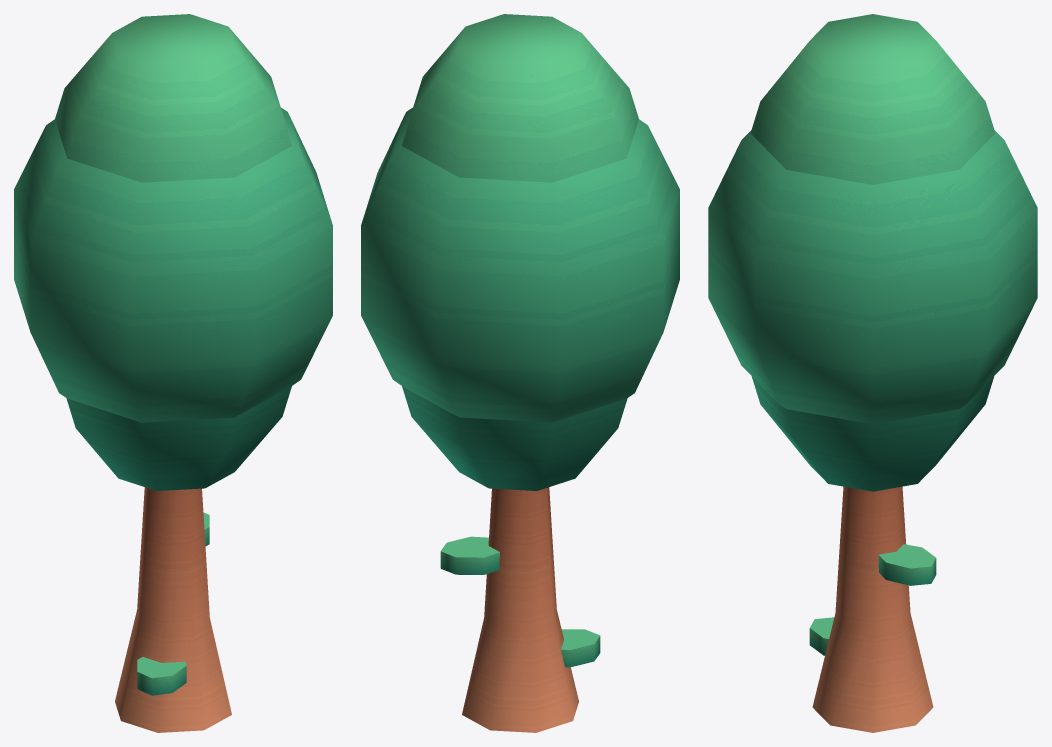
File: tree-large.glb
3 renders of one model, left to right at view 1: azimuth 30°, elevation 25°; view 2: azimuth 150°, elevation 25°; view 3: azimuth 270°, elevation 25°, orthographic.
Parts seen in each view (by area): view 1: tree-large; view 2: tree-large; view 3: tree-large.
Boxes of the visible parts, x1,y1,x2,y2 form: tree-large: [14, 14, 332, 732]; tree-large: [361, 14, 679, 732]; tree-large: [708, 14, 1037, 732].
Bounding box in the file's own units: 2.63 × 5.88 × 2.63.
1 material, 1 textured.
